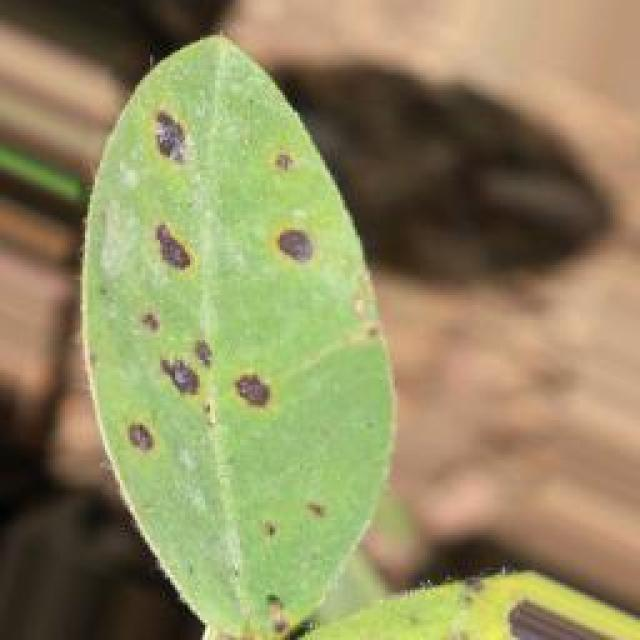Yellowish: (53, 43, 510, 640)
